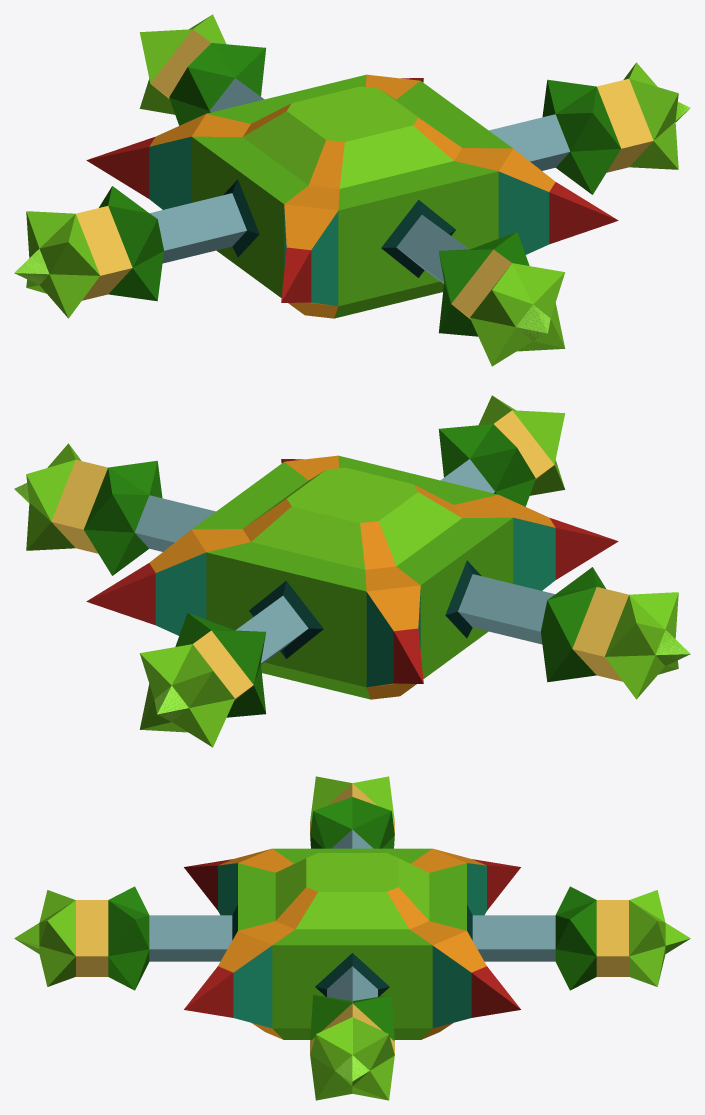
The model's file is alienSpawners.fbx.
3 renders of one model, top to bottom at view 1: azimuth 30°, elevation 25°; view 2: azimuth 150°, elevation 25°; view 3: azimuth 270°, elevation 25°, orthographic. The views are drawn at different scales.
Parts seen in each view (by area): view 1: SpawnerLvl1, SpawnerLvl3Arms, SpawnerLvl2Arms, SpawnerLvl3; view 2: SpawnerLvl1, SpawnerLvl3Arms, SpawnerLvl2Arms, SpawnerLvl3; view 3: SpawnerLvl1, SpawnerLvl3Arms, SpawnerLvl2Arms, SpawnerLvl3.
Boxes of the visible parts, bbox=[...] form: SpawnerLvl1: bbox=[191, 74, 512, 318]; SpawnerLvl3Arms: bbox=[15, 14, 690, 366]; SpawnerLvl2Arms: bbox=[14, 29, 690, 340]; SpawnerLvl3: bbox=[86, 78, 618, 306]; SpawnerLvl1: bbox=[192, 455, 513, 699]; SpawnerLvl3Arms: bbox=[15, 395, 689, 747]; SpawnerLvl2Arms: bbox=[14, 410, 690, 721]; SpawnerLvl3: bbox=[86, 459, 618, 687]; SpawnerLvl1: bbox=[238, 848, 466, 1039]; SpawnerLvl3Arms: bbox=[14, 776, 690, 1100]; SpawnerLvl2Arms: bbox=[16, 783, 628, 1082]; SpawnerLvl3: bbox=[184, 849, 520, 1028].
Bounding box in the file's own units: 296 × 62.78 × 296.
1 material, 1 textured.
